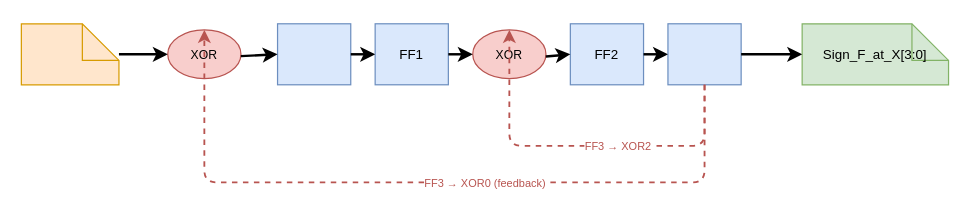
Image size: 970x215. Some labels were removed from this diagram. Here are the shapes that lost their labels. From the top down, the box of each, then its label:
(20, 23, 119, 85): d (F_at_X)
(276, 23, 351, 85): FF0
(667, 23, 741, 85): FF3
